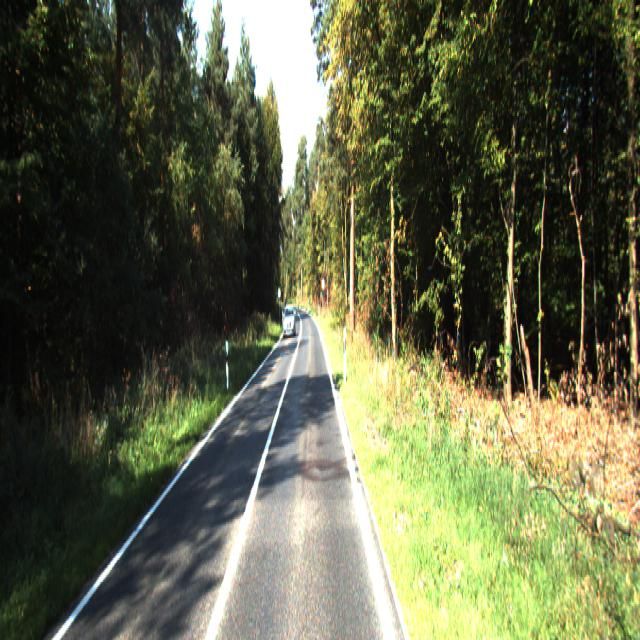Car: (282, 306, 296, 340)
